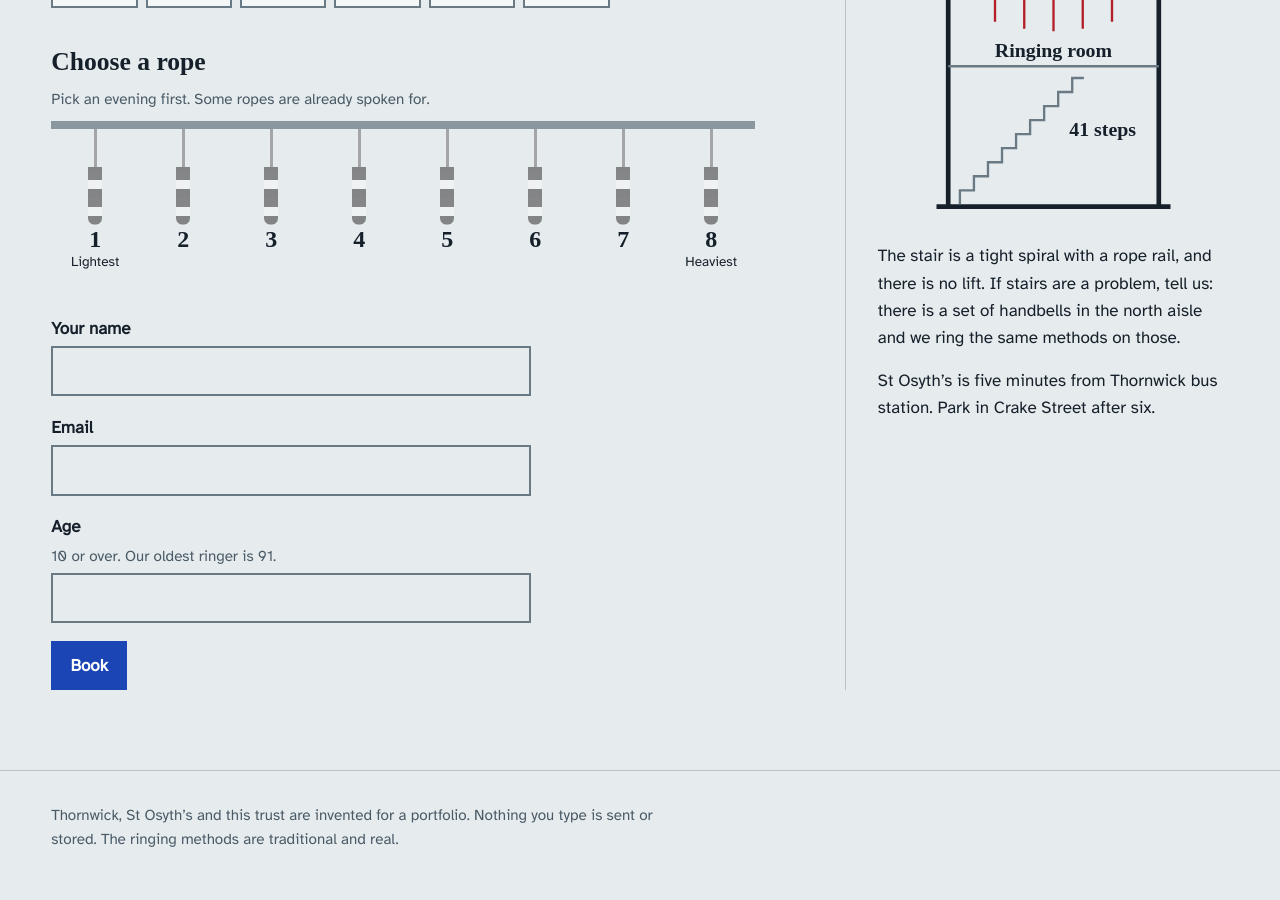
it: booking › asks young ringers for an adult
(page scrolled)
Expected: the field labelled "Adult coming" is not shown
Type "12" into the field labelled "Age" at (291, 598), box [53, 575, 529, 621]
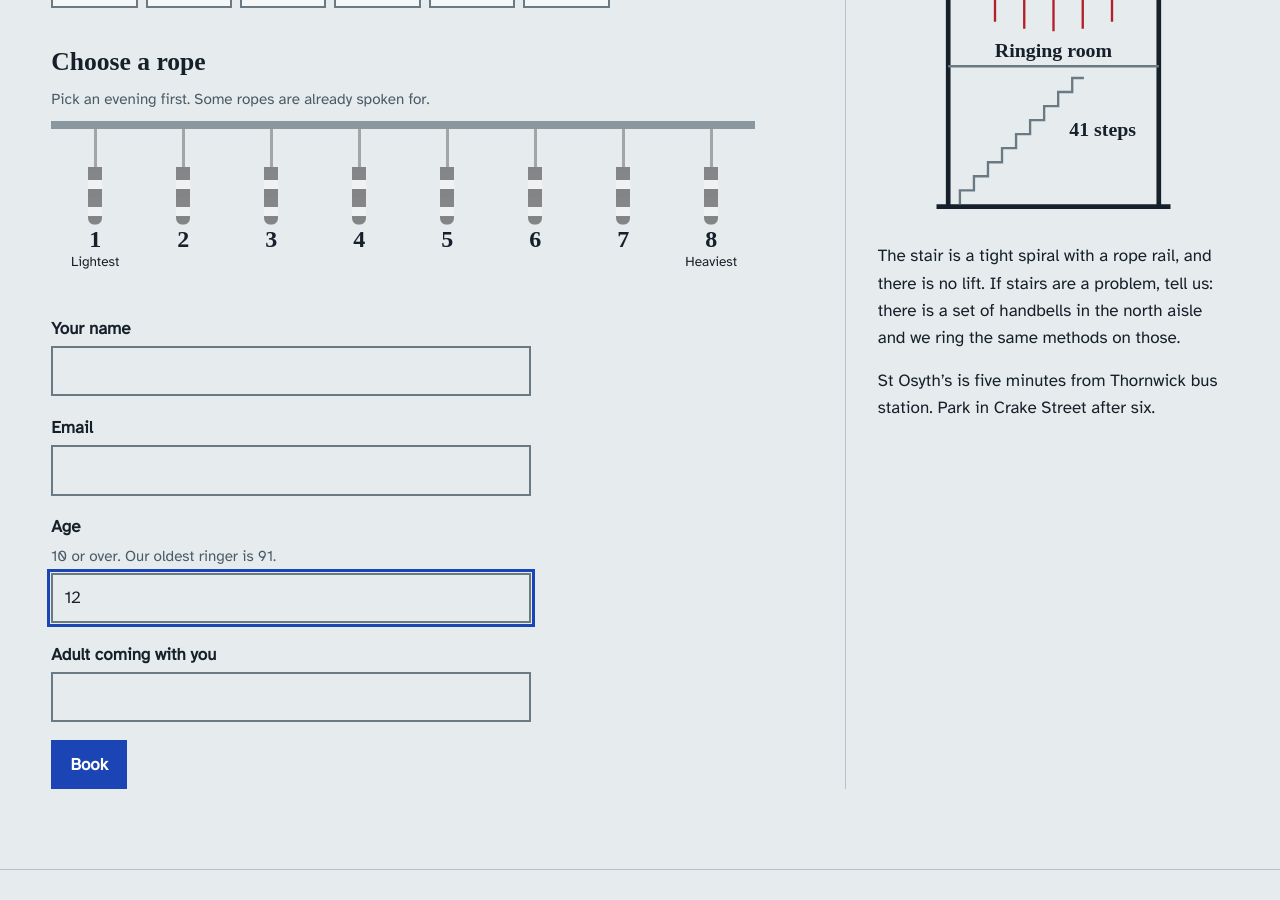
Expected: the field labelled "Adult coming with you" is shown, [53, 674, 529, 720]
